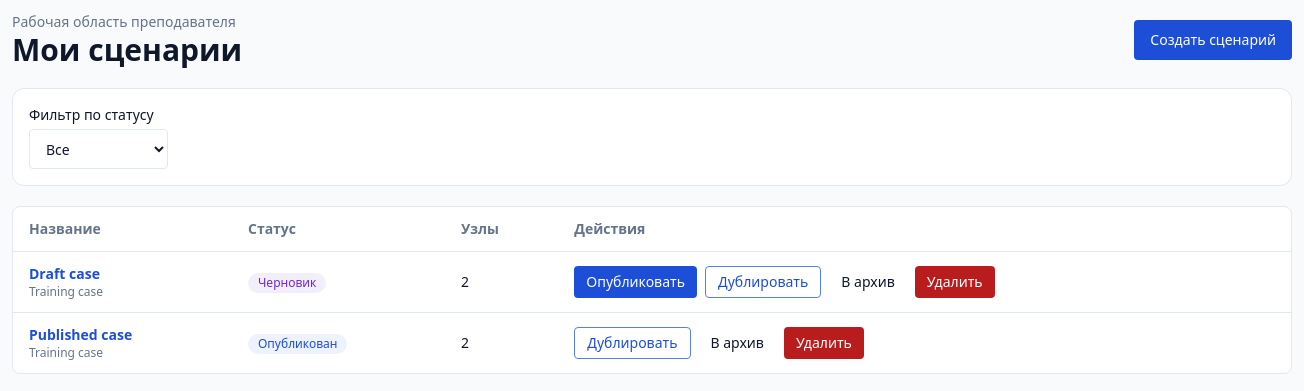
Test case: teacher scenario pages › lists scenarios and filters by status
This screenshot has width=1304, height=391.
Expected: the link "Draft case" is shown, [29,264,100,283]
Expected: the link "Published case" is shown, [29,325,132,344]
Select "Опубликован" in the dropdown labelled "Фильтр по статусу" at (98, 149), box [29,129,168,169]
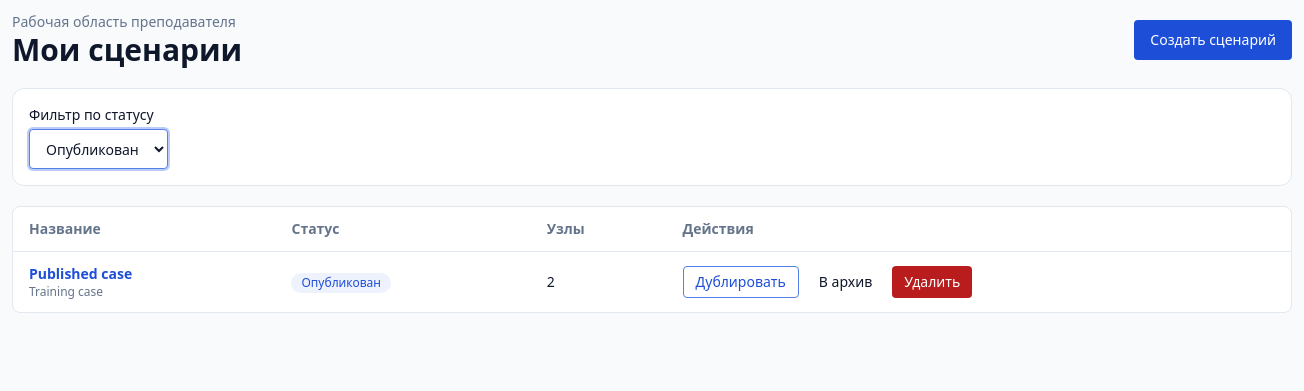
Expected: the link "Published case" is shown, [29,264,132,283]
Expected: the link "Draft case" is gone
